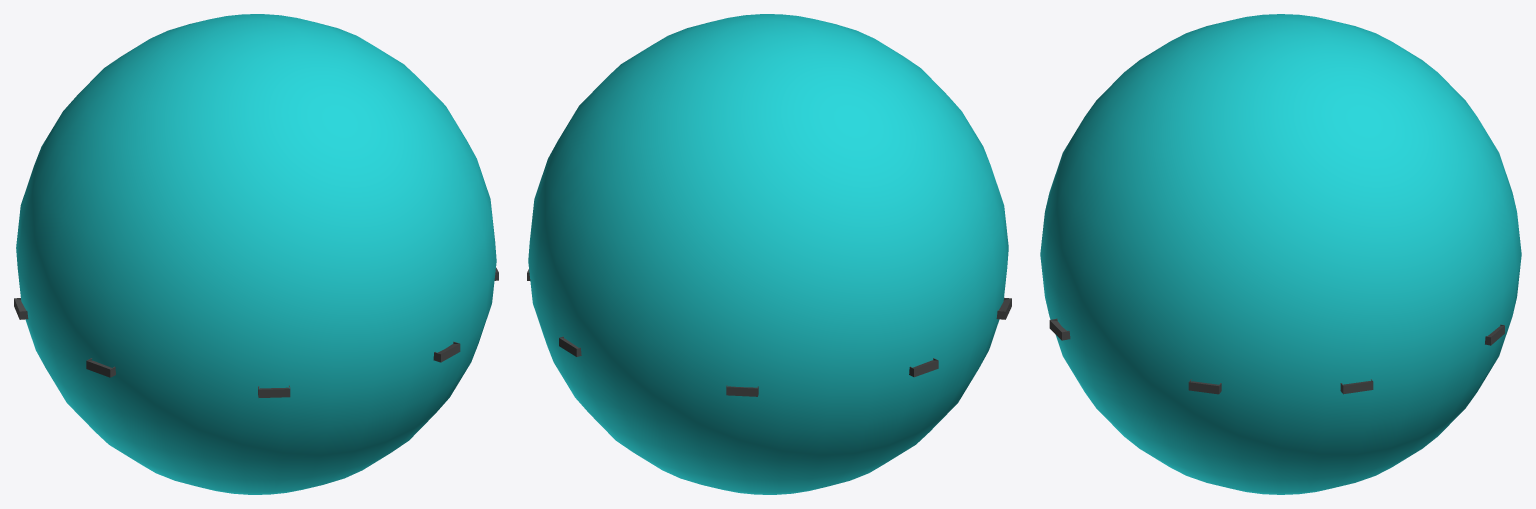
The model's file is hackathon.fbx.
3 views of the same model, side by side, from view 1: azimuth 30°, elevation 25°; view 2: azimuth 150°, elevation 25°; view 3: azimuth 270°, elevation 25° (orthographic).
Visible parts, largest first — view 1: Sphere; view 2: Sphere; view 3: Sphere.
Part boxes in pixels (left/top/right/bottom): Sphere: left=16, top=14, right=496, bottom=494; Sphere: left=528, top=14, right=1008, bottom=494; Sphere: left=1040, top=14, right=1521, bottom=494.
Bounding box in the file's own units: 2178 × 2178 × 2178.
